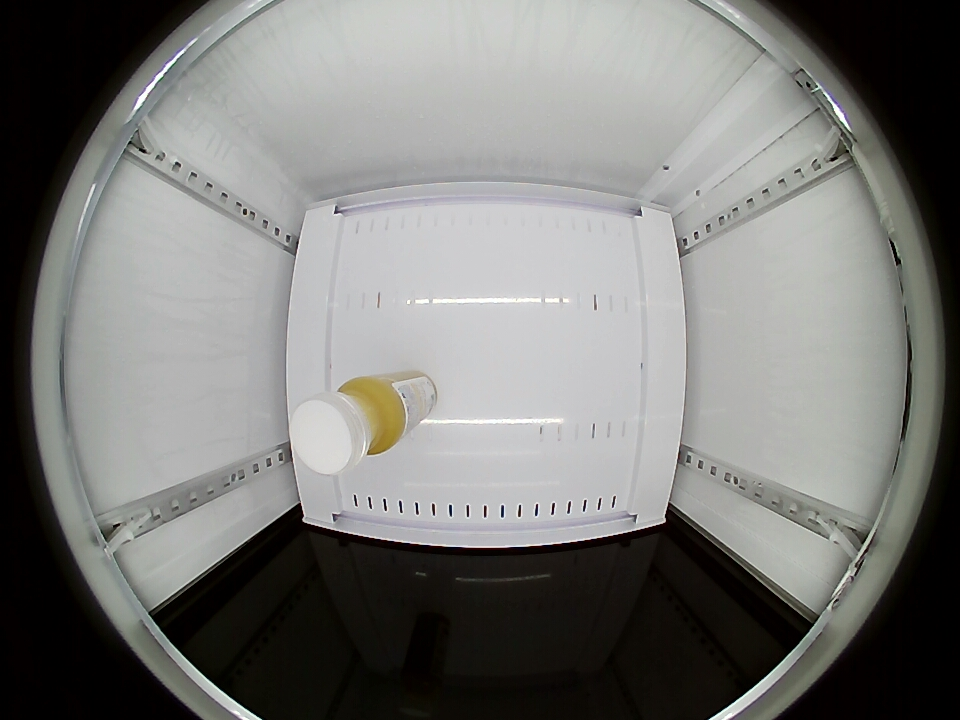nfc: (290, 376, 405, 475)
